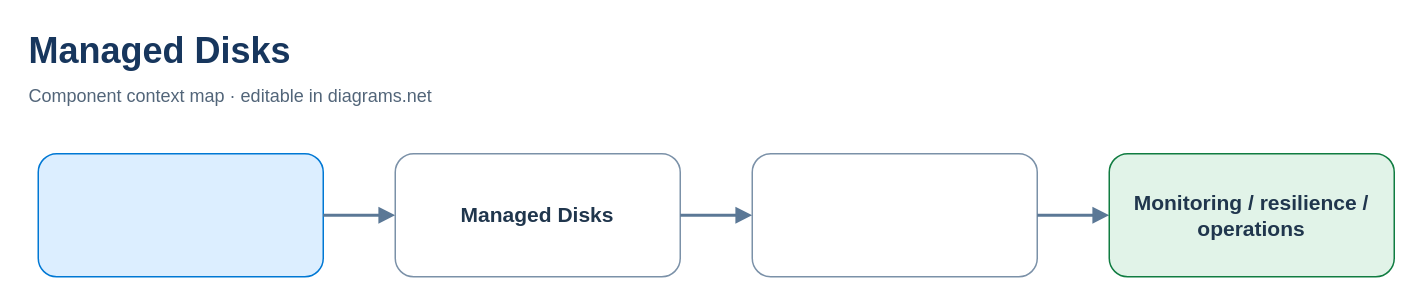
Image size: 1421x303. Some labels were removed from this diagram. The shapes that lost their labels are listed below. From the top down, each one's centre as x and y in pixels, then its label:
At (180,214): "E · Compute & Application Hosting".
At (894,214): "Identity / network / governance controls".
